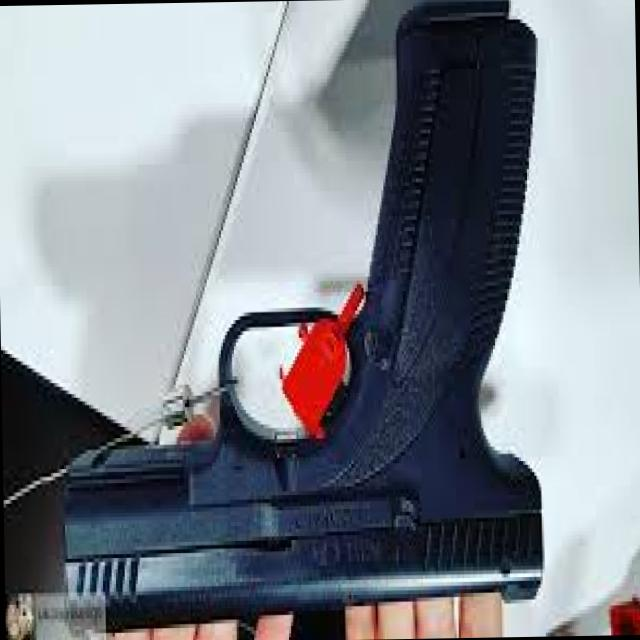Gun: (44, 0, 573, 640)
